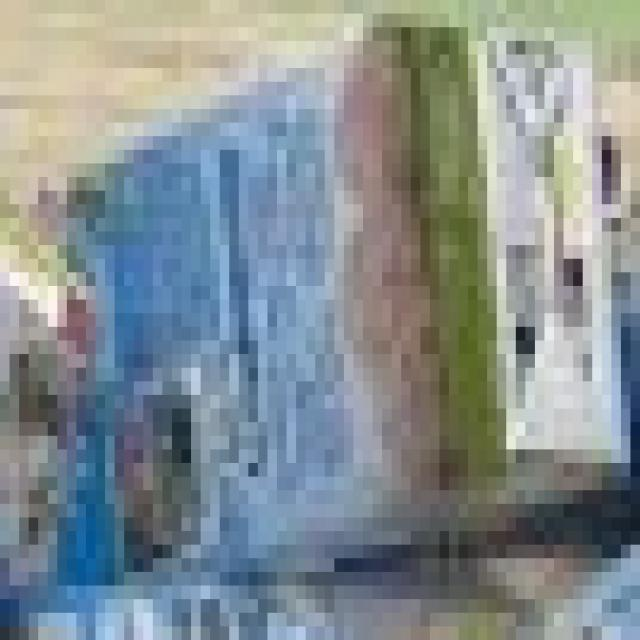drink carton: (26, 0, 640, 600)
